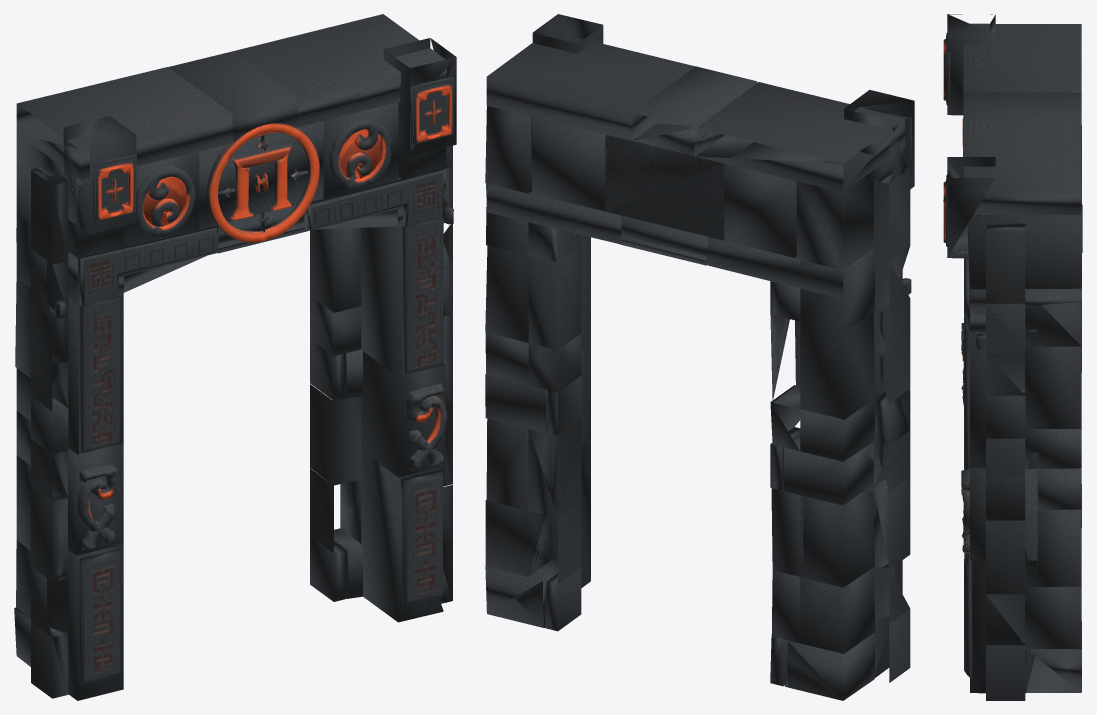
3 renders of one model, left to right at view 1: azimuth 30°, elevation 25°; view 2: azimuth 150°, elevation 25°; view 3: azimuth 270°, elevation 25°, orthographic. The views are drawn at different scales.
Bounding box in the file's own units: 0.708 × 0.9526 × 0.2334.
1 material, 1 textured.
